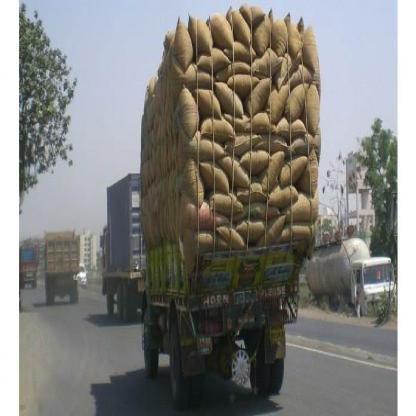overloaded-truck: (140, 17, 317, 307)
